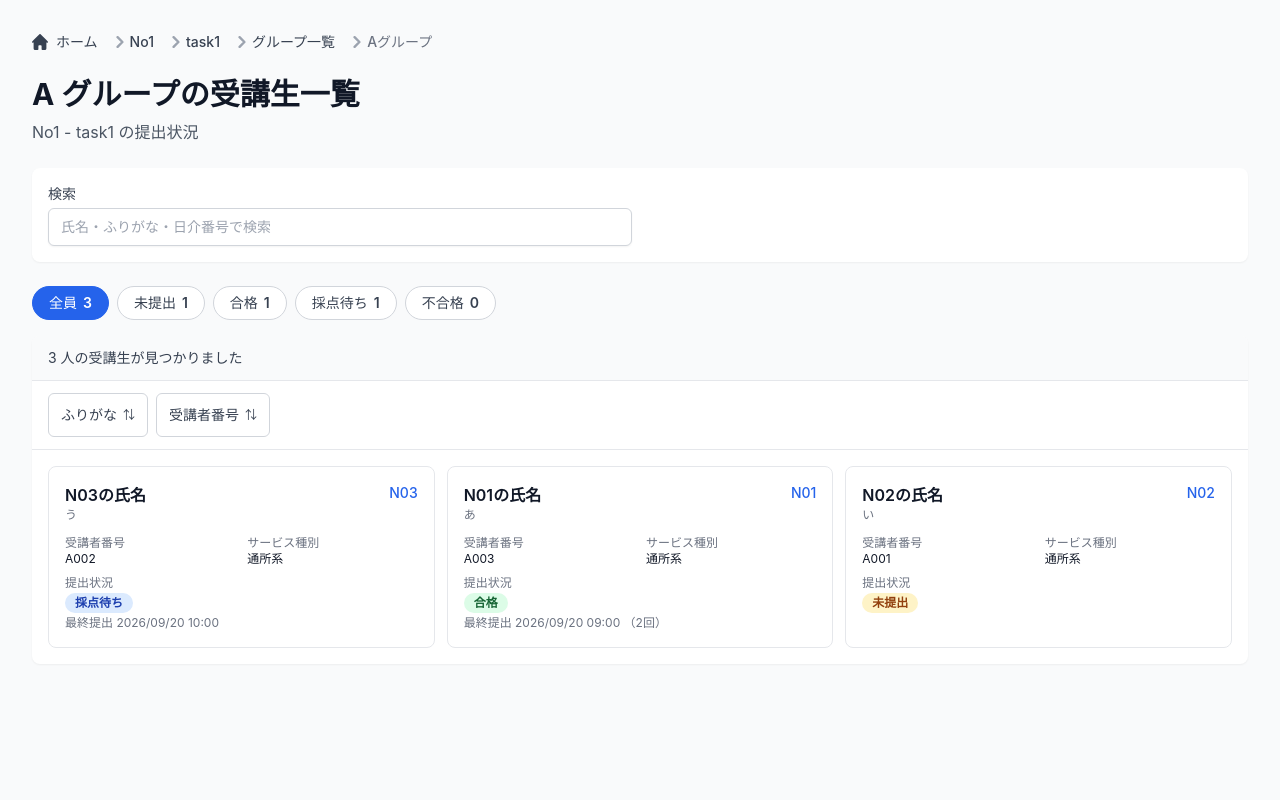
Test: GroupStudentsView (responsive table / cards) › 提出状況（誰が提出済みかを一覧で分かるようにする） › should combine the status filter with the search, and keep the chip counts for the whole group
The width and height of the screenshot is (1280, 800).
Click the button "合格 1".
click(250, 303)  # box [213, 286, 287, 320]
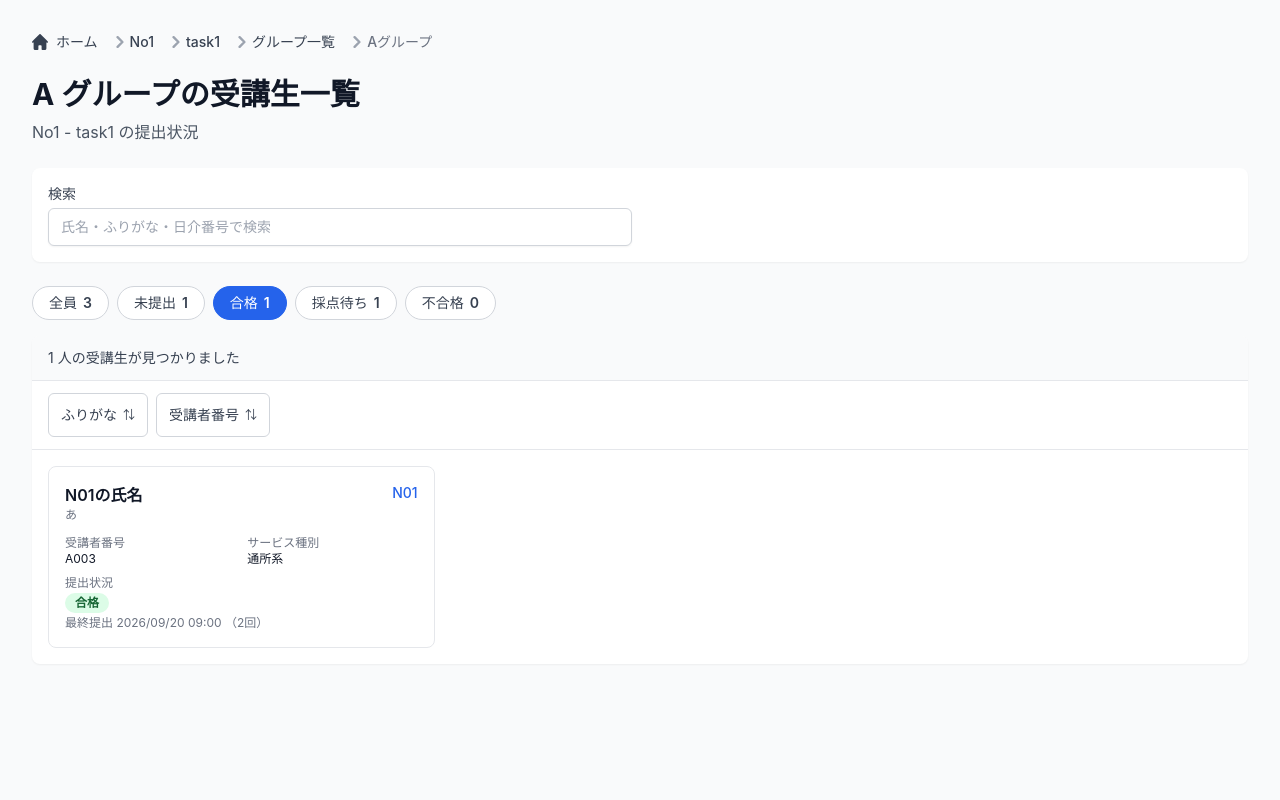
Type "N02" into the field with id "search-query".
click(340, 227); type("N02")  # box [48, 208, 632, 246]
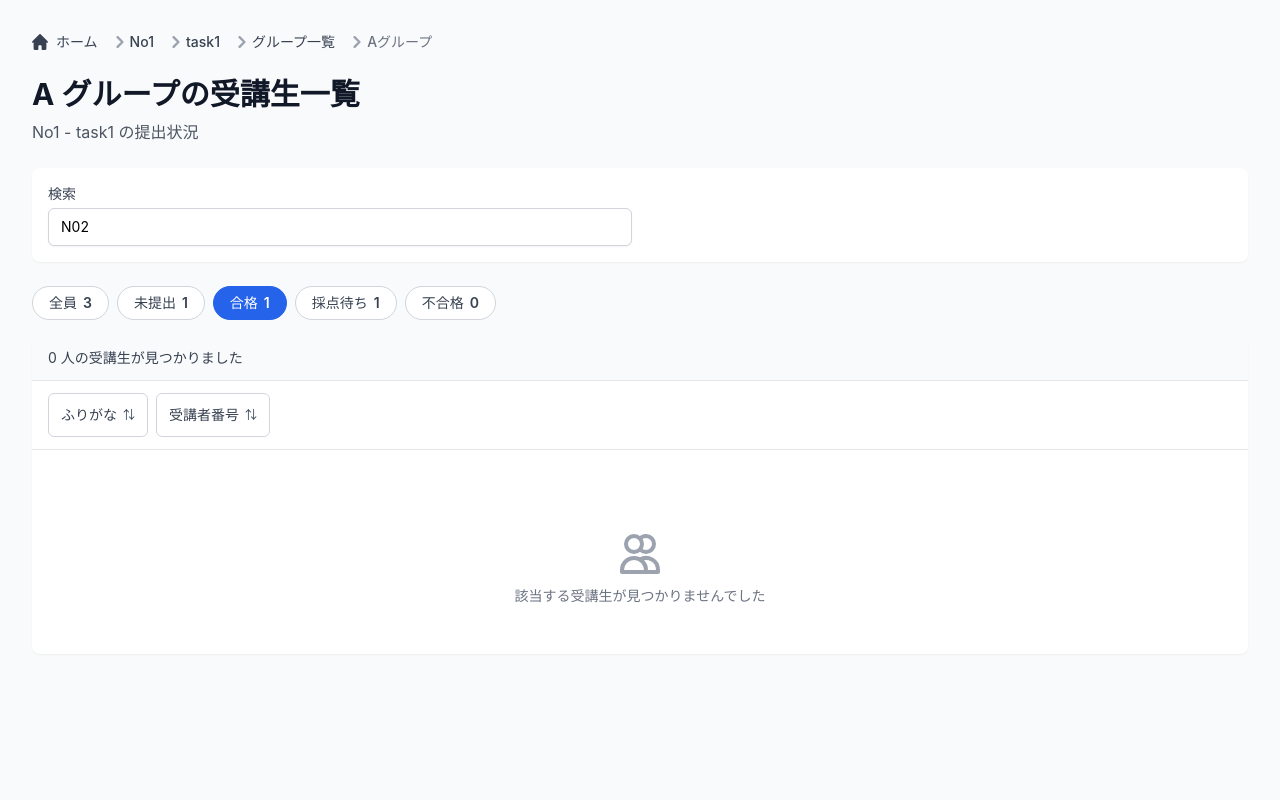
Now the text "該当する受講生が見つかりませんでした" is shown, box [514, 587, 765, 604]
